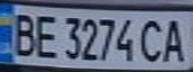2: (78, 14, 100, 62)
3: (60, 12, 81, 61)
4: (115, 15, 139, 63)
7: (97, 15, 118, 62)
A: (160, 15, 190, 64)
B: (6, 9, 39, 57)
C: (136, 16, 169, 63)
E: (30, 11, 60, 60)
